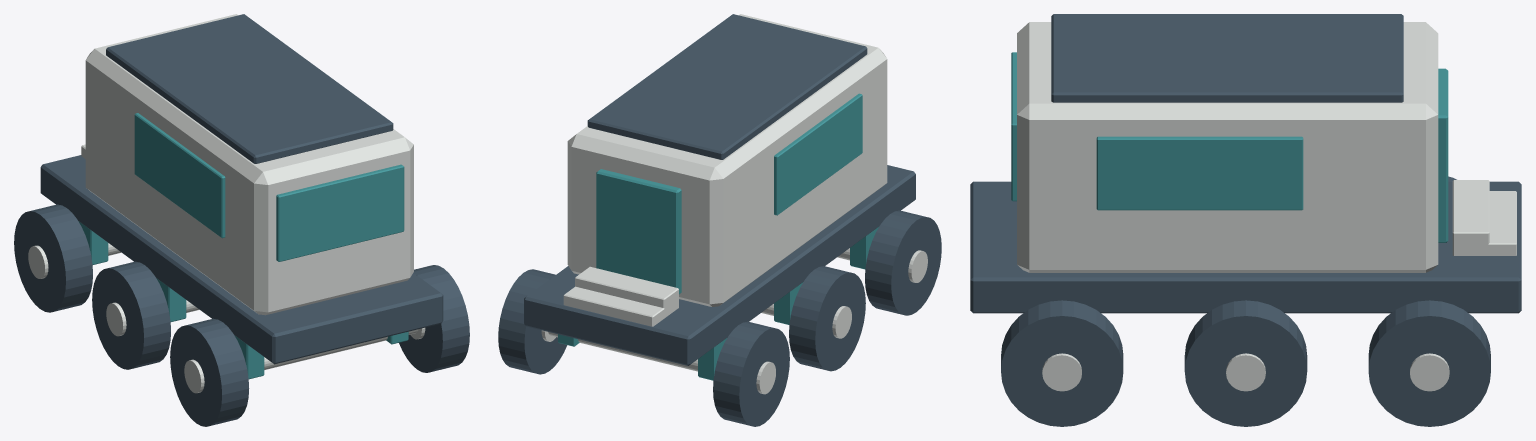
3 renders of one model, left to right at view 1: azimuth 30°, elevation 25°; view 2: azimuth 150°, elevation 25°; view 3: azimuth 270°, elevation 25°, orthographic. The views are drawn at different scales.
Parts seen in each view (by area): view 1: ME-068 Pressurized six wheel lunar rover batched; view 2: ME-068 Pressurized six wheel lunar rover batched; view 3: ME-068 Pressurized six wheel lunar rover batched.
Part boxes in pixels (x1,y1,x2,y2): ME-068 Pressurized six wheel lunar rover batched: (14, 14, 469, 426); ME-068 Pressurized six wheel lunar rover batched: (498, 14, 941, 426); ME-068 Pressurized six wheel lunar rover batched: (970, 14, 1521, 426).
Size of the model in its own units: 2.26 by 2.18 by 3.6.
